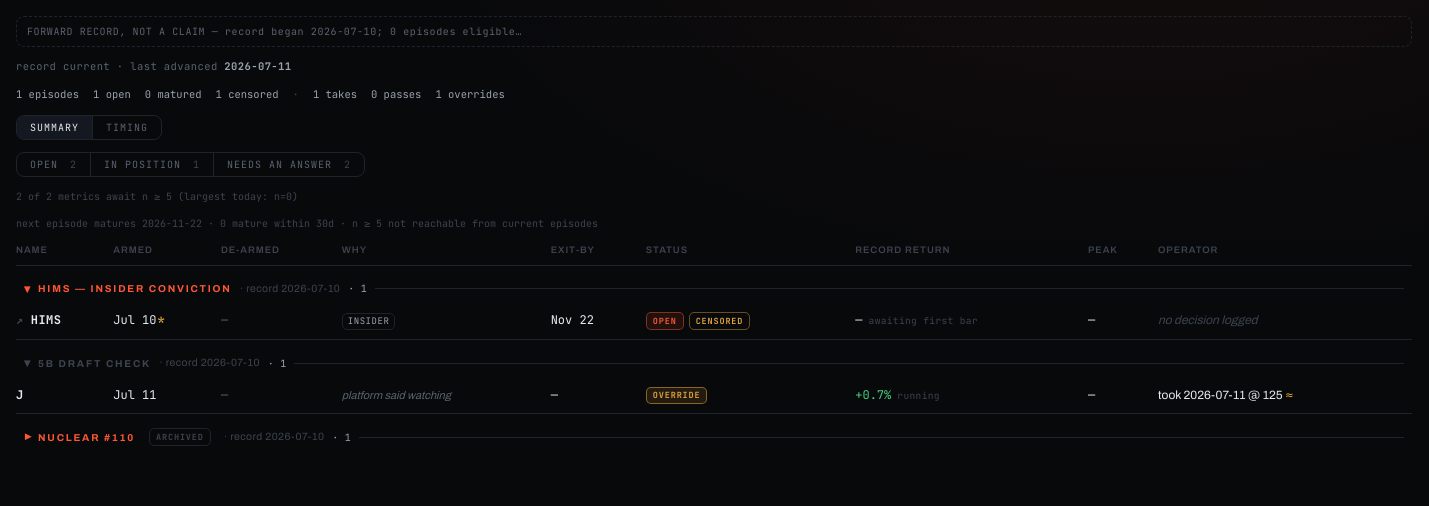
Test: Scoreboard › folds archived groups closed by default — present with the count, never dropped
Check: the text "awaiting first bar" is shown once, box x1=862 y1=314 x2=978 y2=327
Step 1. Click the button "▾ Nuclear #110 ARCHIVED · record 2026-07-10 · 1" → [187, 437], box x1=24 y1=428 x2=1404 y2=446
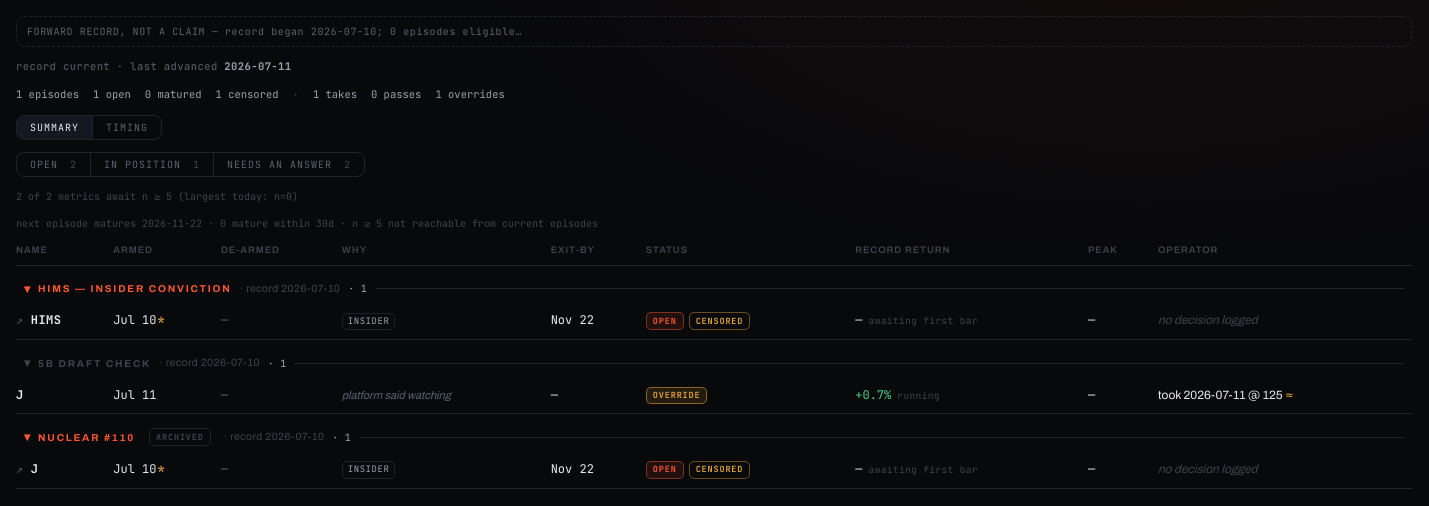
Check: the text "awaiting first bar" is shown 2 times, box x1=862 y1=314 x2=978 y2=327; x1=862 y1=463 x2=978 y2=476
